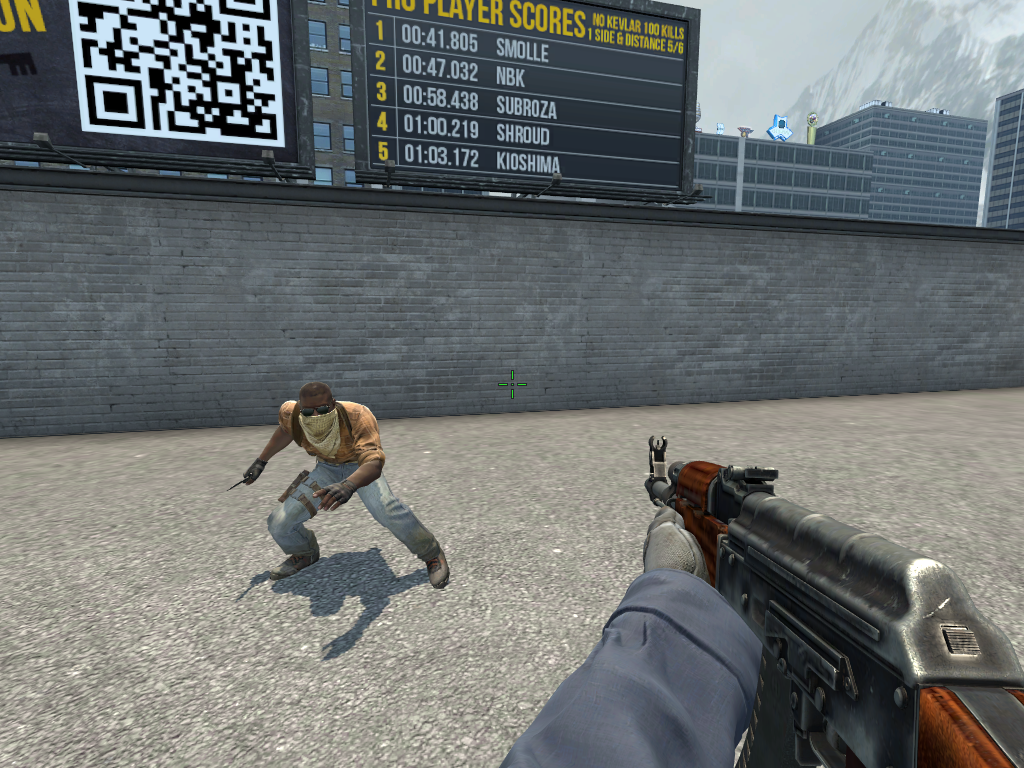tr head: (296, 381, 336, 439)
